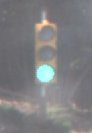Green: (28, 13, 66, 95)
